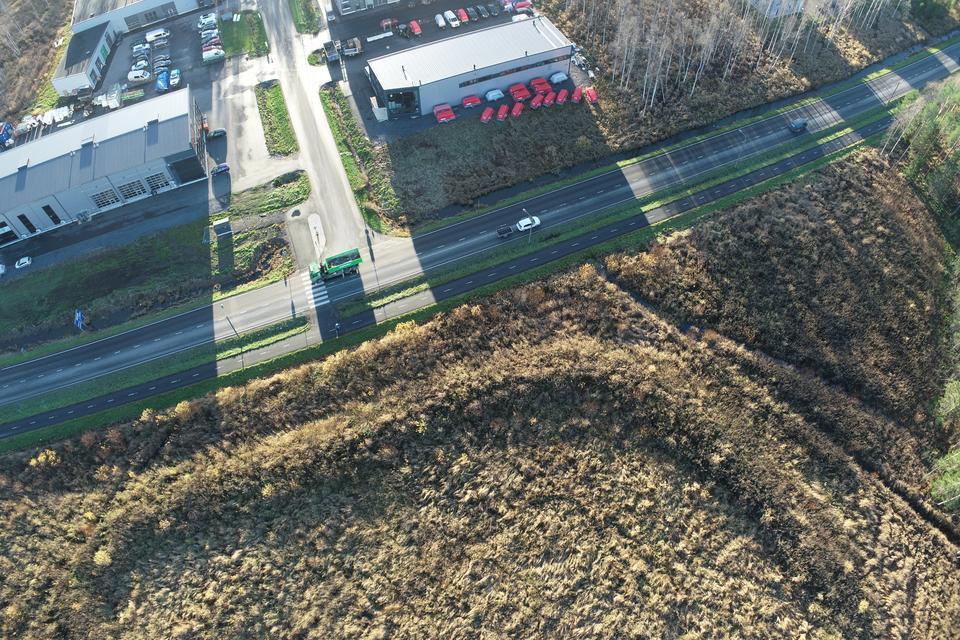intersection: (273, 185, 427, 385)
